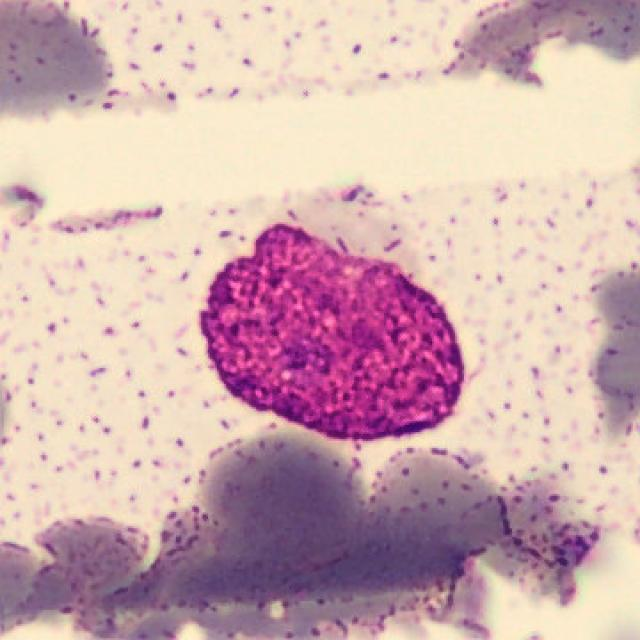Restos celulares: (199, 224, 464, 441)
